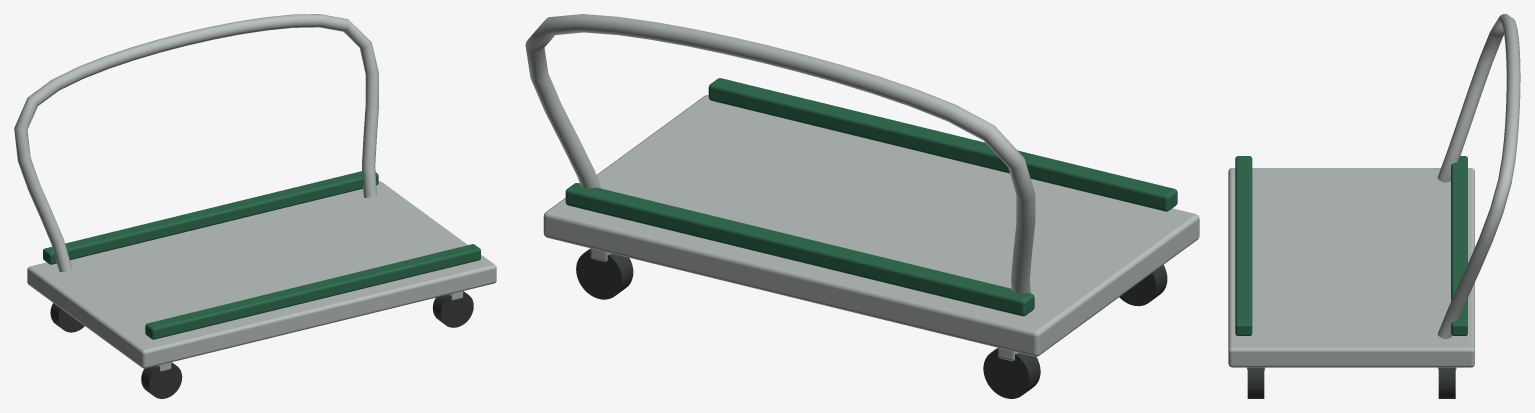
The model's file is cricket-ground-and-pavilion-pitch-cover-trolley-199564e1__31335.glb.
3 renders of one model, left to right at view 1: azimuth 30°, elevation 25°; view 2: azimuth 150°, elevation 25°; view 3: azimuth 270°, elevation 25°, orthographic. The views are drawn at different scales.
Parts seen in each view (by area): view 1: pitch-cover-trolley; view 2: pitch-cover-trolley; view 3: pitch-cover-trolley.
Boxes of the visible parts, x1,y1,x2,y2 form: pitch-cover-trolley: (14, 14, 496, 398); pitch-cover-trolley: (525, 14, 1199, 398); pitch-cover-trolley: (1228, 14, 1520, 398).
Size of the model in its own units: 1.42 by 0.8939 by 0.9476.
